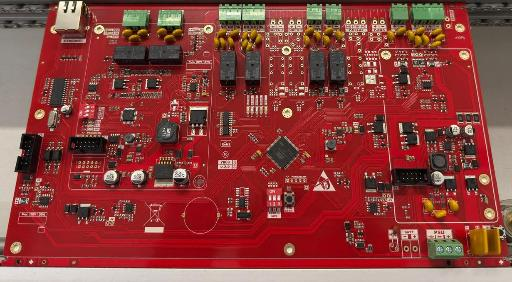var: (469, 229, 487, 255), (486, 229, 501, 255), (448, 199, 459, 212), (423, 200, 434, 212), (434, 210, 447, 219), (431, 28, 442, 37), (434, 33, 445, 42), (395, 27, 406, 36), (406, 30, 415, 41), (387, 30, 395, 42), (421, 34, 429, 46), (414, 35, 422, 47), (314, 31, 322, 43), (157, 28, 167, 37), (305, 26, 314, 36), (415, 26, 425, 35), (122, 29, 133, 37), (137, 29, 148, 37), (172, 29, 183, 37), (229, 29, 240, 37), (254, 34, 262, 45), (129, 35, 141, 42), (164, 35, 176, 42), (303, 35, 310, 47), (323, 35, 330, 47), (227, 37, 234, 49), (219, 37, 226, 49), (336, 30, 343, 42), (217, 29, 227, 37), (324, 27, 334, 35), (250, 29, 257, 40), (430, 41, 441, 48), (214, 37, 220, 49), (240, 40, 248, 49), (246, 41, 253, 51), (243, 31, 249, 42)
